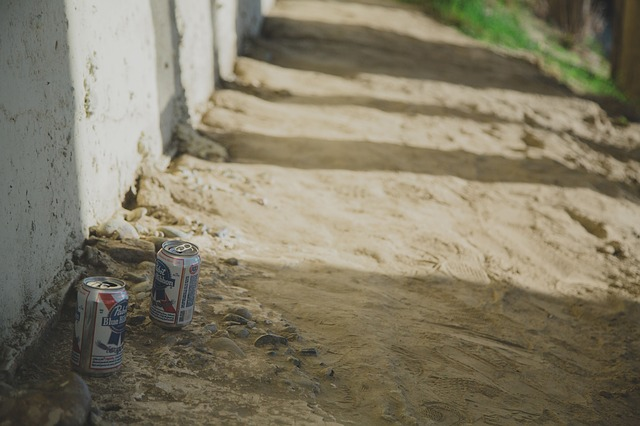can: (66, 266, 133, 377), (146, 233, 202, 333)
